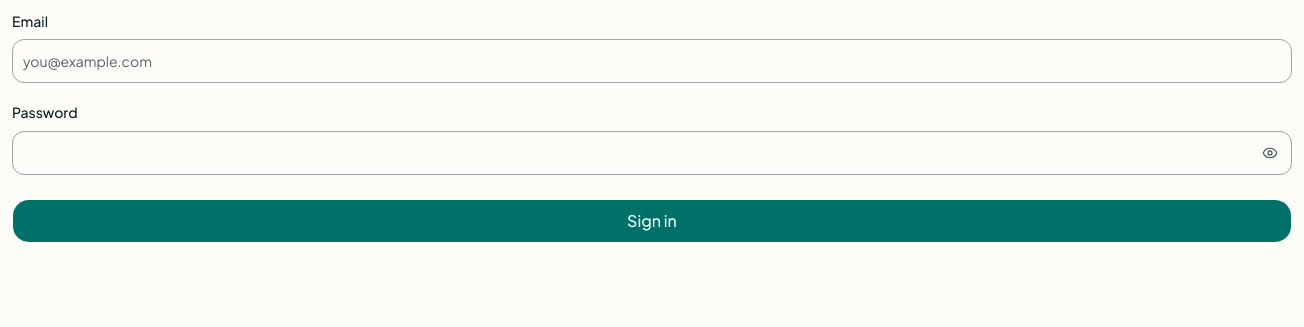
it: Signing in › explains a network failure instead of failing silently
The image size is (1304, 327).
Type "kasuni@example.com" into the field labelled "Email" at [652, 61], box [12,39,1292,83]
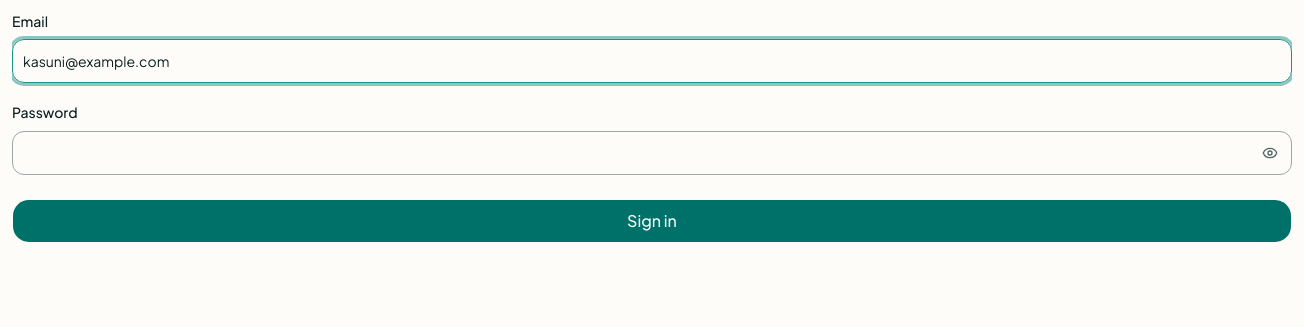
Type "Str0ng-Pass!" into the password field labelled "Password" at [652, 152], box [12,130,1292,174]
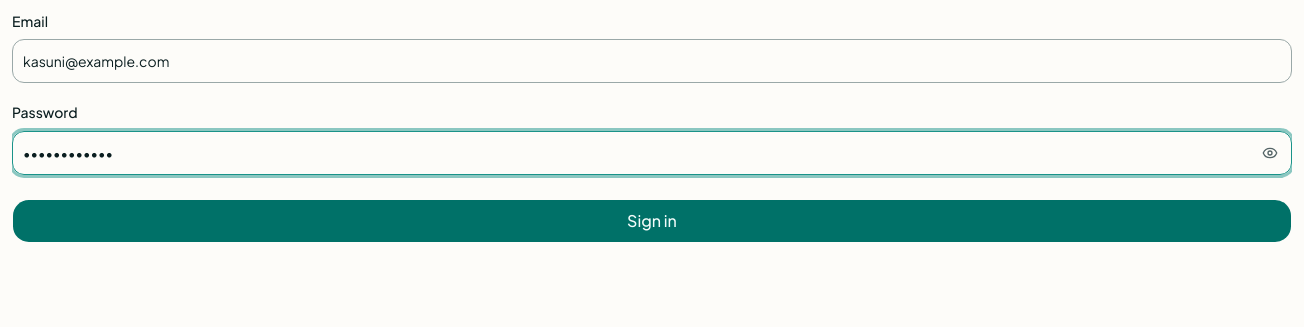
Click the button "Sign in" at [652, 220], box [12,198,1292,242]
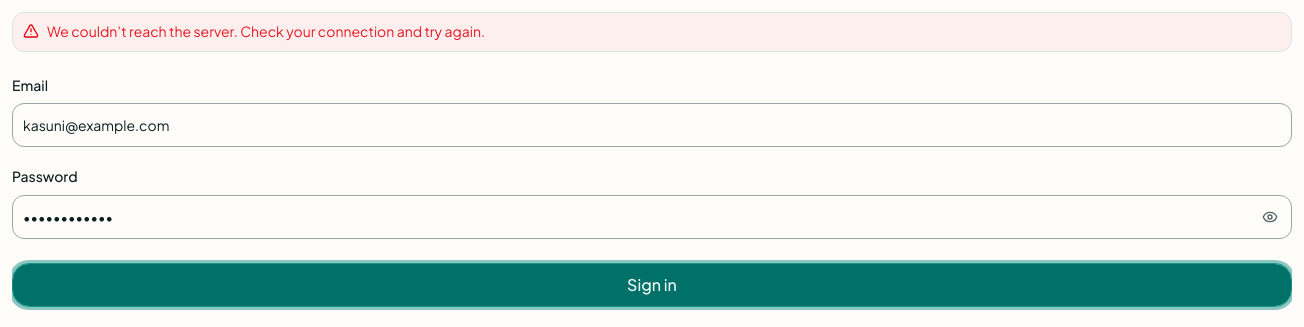
Expected: the text "couldn’t reach the server" is shown, [47,22,485,40]
